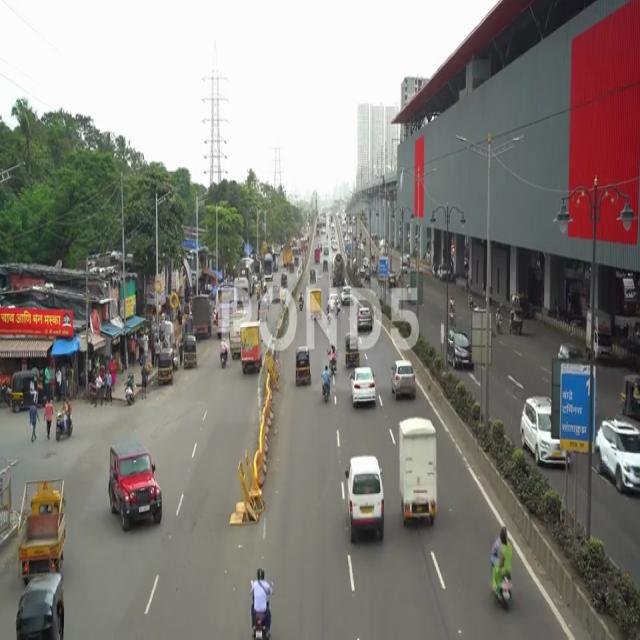car: (104, 443, 164, 532), (595, 417, 640, 503), (344, 455, 386, 547), (389, 360, 416, 401), (351, 369, 378, 405)
motorbike: (488, 520, 515, 620), (245, 557, 274, 640)
rikshaw: (293, 340, 313, 387)
truck: (13, 464, 70, 581), (399, 415, 439, 539)
